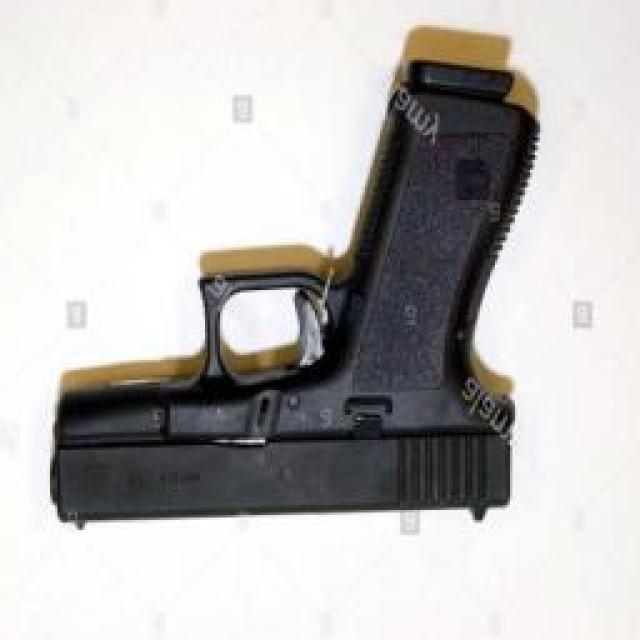pistol: (45, 61, 541, 530)
